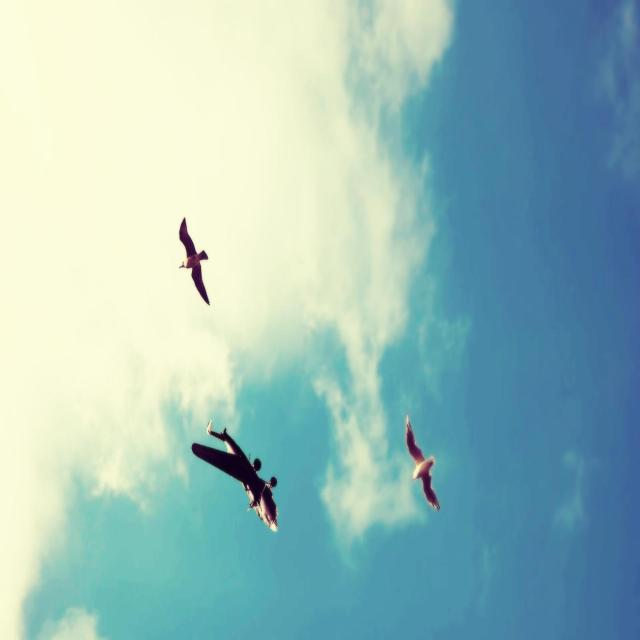airplane: (191, 419, 279, 532)
